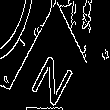N_NE: (29, 41, 82, 105)
